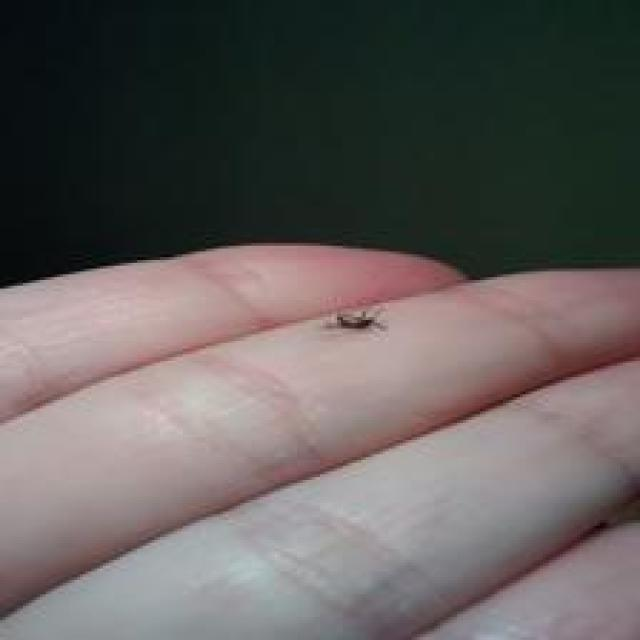Aedes albopictus: (323, 306, 388, 334)
